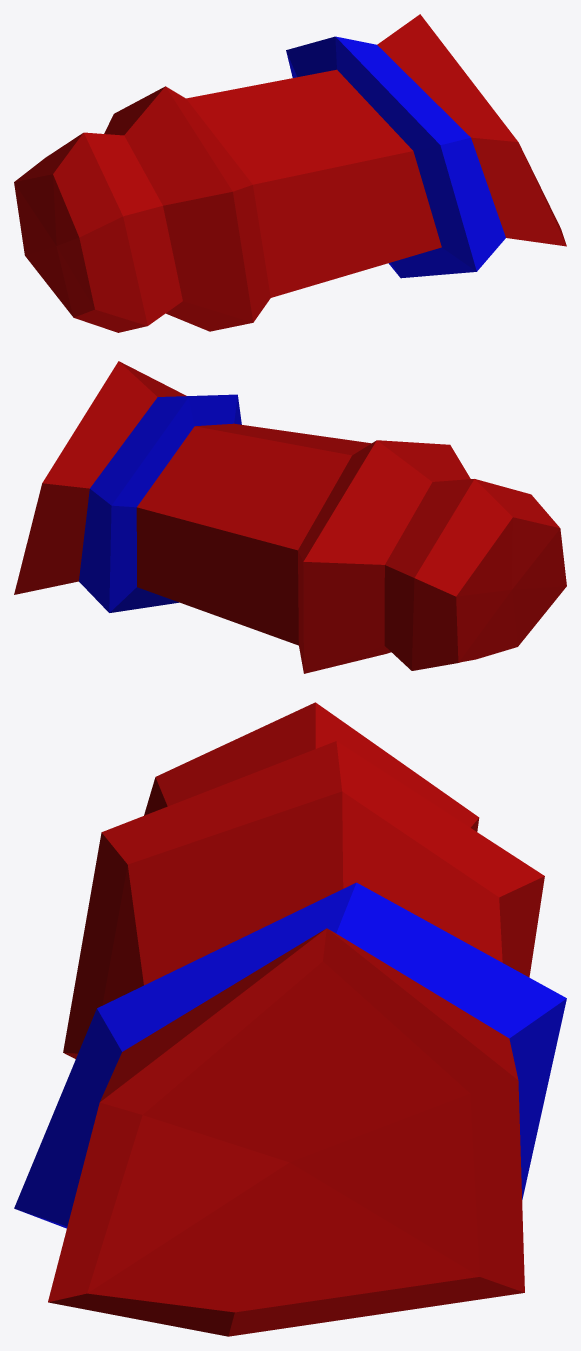
Rendered from Chr_ArmUpperRight_Male_Static_20.fbx.
3 views of the same model, one above another, from view 1: azimuth 30°, elevation 25°; view 2: azimuth 150°, elevation 25°; view 3: azimuth 270°, elevation 25° (orthographic). The views are drawn at different scales.
Visible parts, largest first — view 1: Chr_ArmUpperRight_Male_20; view 2: Chr_ArmUpperRight_Male_20; view 3: Chr_ArmUpperRight_Male_20.
Boxes of the visible parts, <box> form: Chr_ArmUpperRight_Male_20: <box>14,14,566,332</box>; Chr_ArmUpperRight_Male_20: <box>14,361,566,673</box>; Chr_ArmUpperRight_Male_20: <box>14,702,566,1336</box>.
Bounding box in the file's own units: 32.44 × 16.58 × 20.12.
